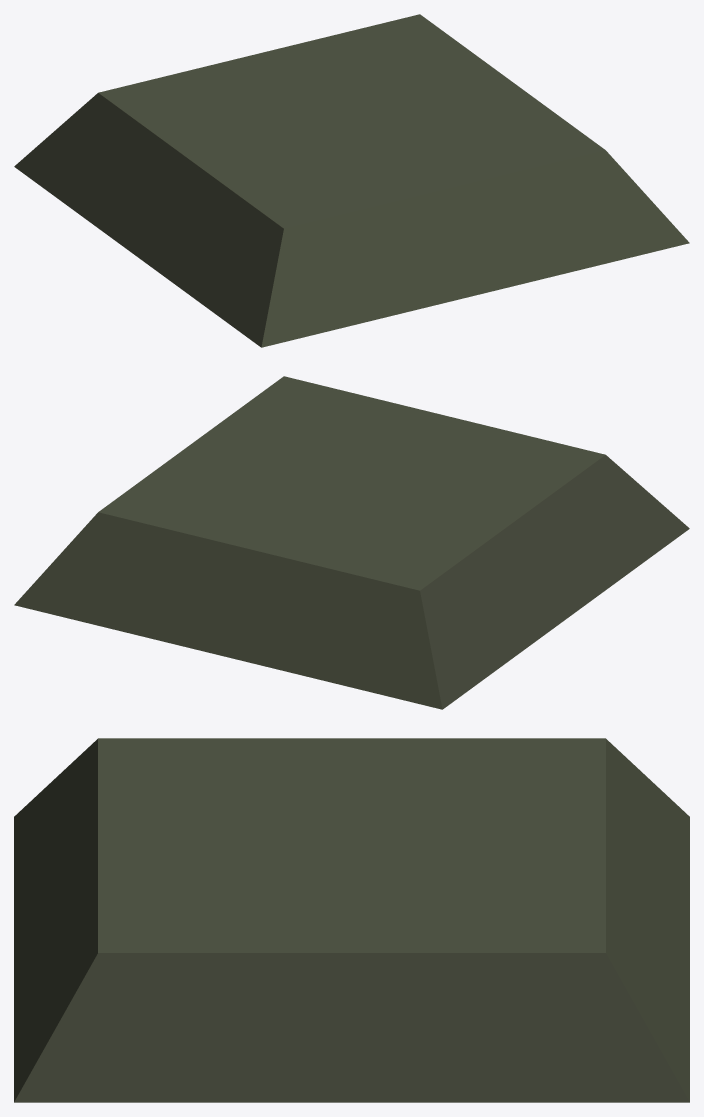
Rendered from AI_Env_Sewer_Plant_04.fbx.
The picture shows the model from 3 angles, top to bottom: view 1: azimuth 30°, elevation 25°; view 2: azimuth 150°, elevation 25°; view 3: azimuth 270°, elevation 25°; orthographic projection. The views are drawn at different scales.
Visible parts, largest first — view 1: AI_Env_Sewer_Plant_04; view 2: AI_Env_Sewer_Plant_04; view 3: AI_Env_Sewer_Plant_04.
Boxes of the visible parts, <box> form: AI_Env_Sewer_Plant_04: <box>14,14,689,347</box>; AI_Env_Sewer_Plant_04: <box>14,376,689,709</box>; AI_Env_Sewer_Plant_04: <box>14,738,689,1102</box>.
Bounding box in the file's own units: 0.2892 × 0.0538 × 0.2892.
